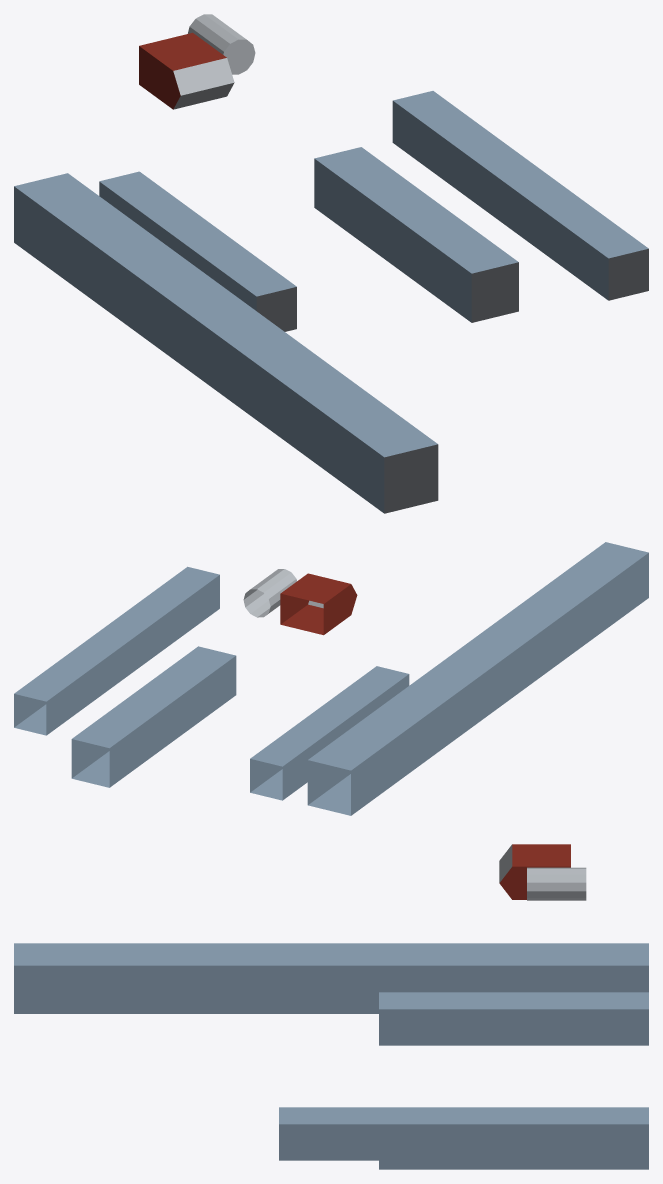
The model's file is island_bldg_08_08.obj.
3 renders of one model, top to bottom at view 1: azimuth 30°, elevation 25°; view 2: azimuth 150°, elevation 25°; view 3: azimuth 270°, elevation 25°, orthographic. The views are drawn at different scales.
Parts seen in each view (by area): view 1: island_bldg_08_08; view 2: island_bldg_08_08; view 3: island_bldg_08_08.
Boxes of the visible parts, x1=… form: island_bldg_08_08: x1=14, y1=14, x2=648, y2=513; island_bldg_08_08: x1=14, y1=542, x2=648, y2=815; island_bldg_08_08: x1=14, y1=844, x2=648, y2=1169.
Size of the model in its own units: 249 by 145 by 381.
